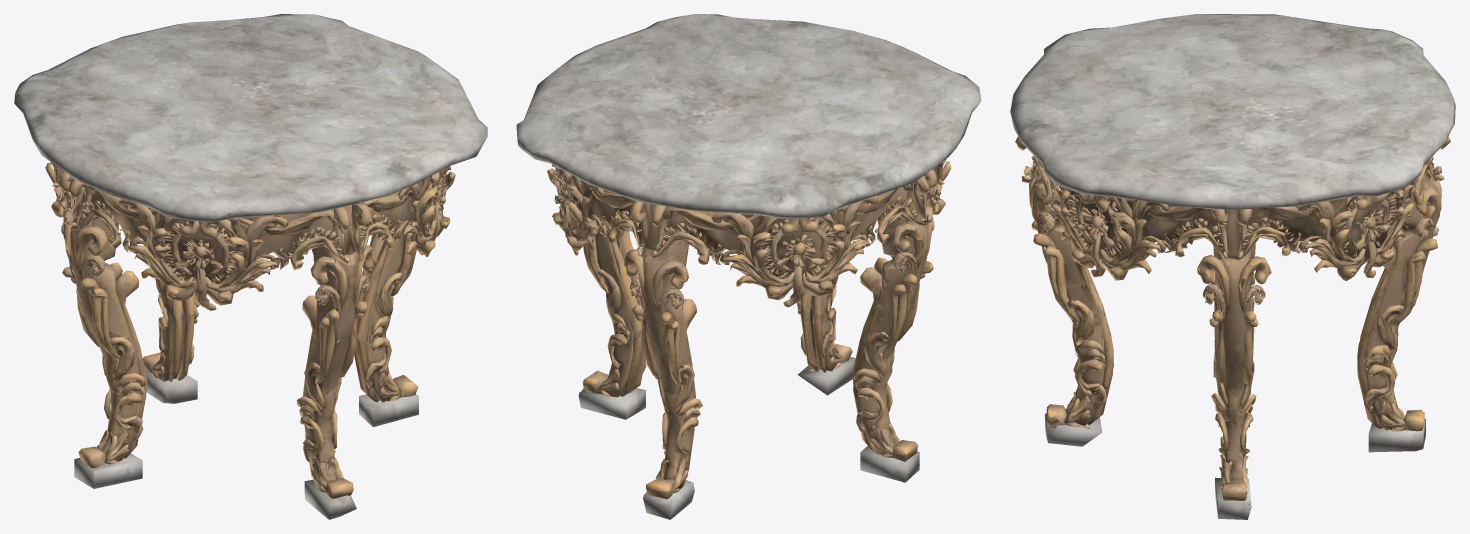
Rendered from antique-table.glb.
3 renders of one model, left to right at view 1: azimuth 30°, elevation 25°; view 2: azimuth 150°, elevation 25°; view 3: azimuth 270°, elevation 25°, orthographic.
Visible parts, largest first — view 1: Object_0; view 2: Object_0; view 3: Object_0.
Part boxes in pixels (x1,y1,x2,y2): Object_0: [14, 14, 487, 519]; Object_0: [516, 14, 981, 519]; Object_0: [1010, 14, 1455, 519].
Bounding box in the file's own units: 1.4 × 1.2 × 1.4.
1 material, 1 textured.
